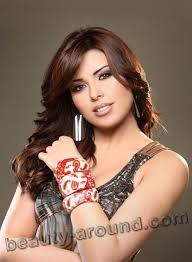middle_eastern_Female: (69, 43, 138, 128)
